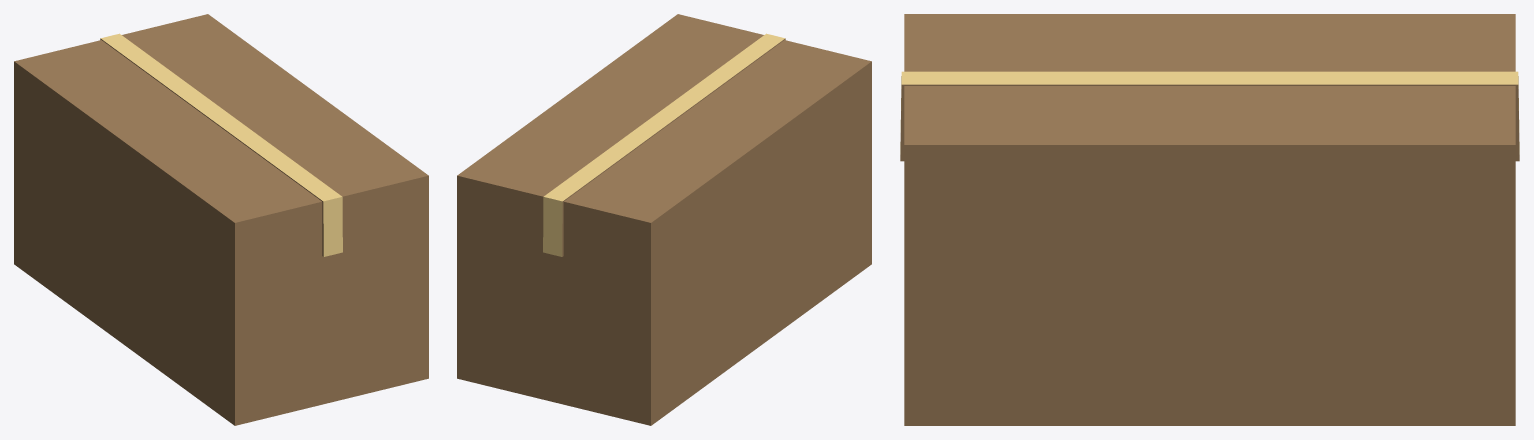
Rendered from BoxLarge.fbx.
3 views of the same model, side by side, from view 1: azimuth 30°, elevation 25°; view 2: azimuth 150°, elevation 25°; view 3: azimuth 270°, elevation 25° (orthographic). The views are drawn at different scales.
Visible parts, largest first — view 1: BoxLarge; view 2: BoxLarge; view 3: BoxLarge.
Boxes of the visible parts, box(x1,y1,x2,y2) form: BoxLarge: box(14, 14, 428, 425); BoxLarge: box(457, 14, 871, 425); BoxLarge: box(900, 14, 1519, 425).
Size of the model in its own units: 200 by 201 by 399.
